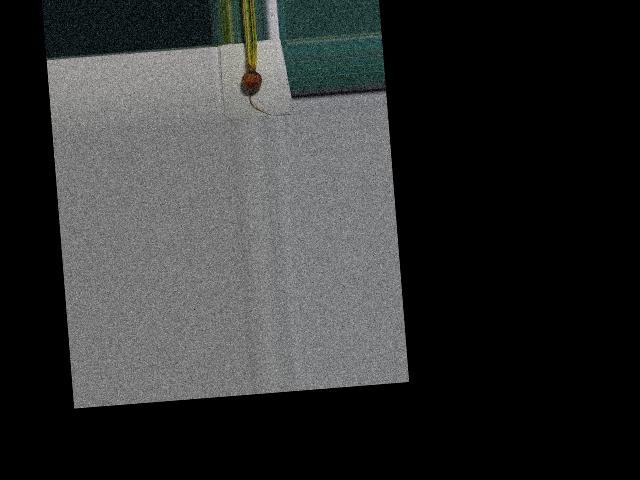beet: (238, 40, 270, 117)
